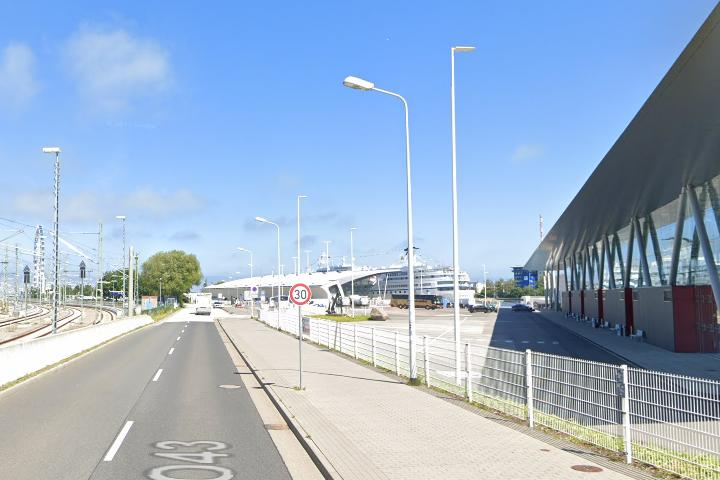traffic_sign: (288, 283, 312, 306)
vehicle: (388, 292, 442, 311)
